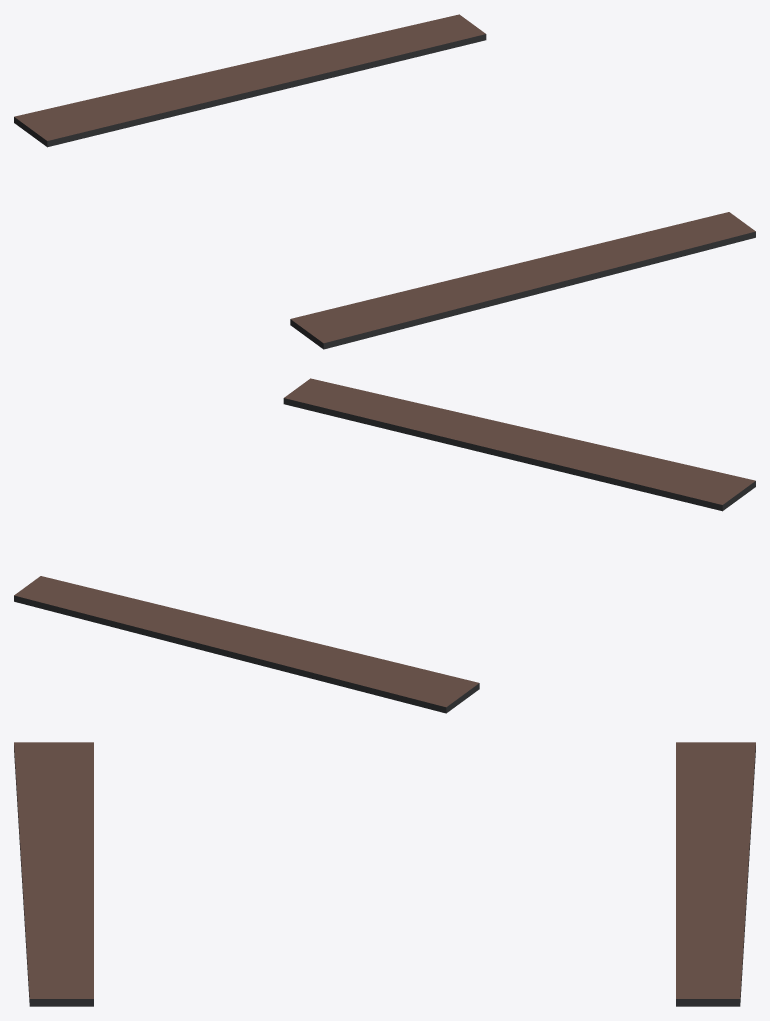
File: side-locker-short-420s.glb
3 renders of one model, top to bottom at view 1: azimuth 30°, elevation 25°; view 2: azimuth 150°, elevation 25°; view 3: azimuth 270°, elevation 25°, orthographic. The views are drawn at different scales.
Visible parts, largest first — view 1: xs_lid_side_short_420s_port_1_board, xs_lid_side_short_420s_stbd_1_board; view 2: xs_lid_side_short_420s_stbd_1_board, xs_lid_side_short_420s_port_1_board; view 3: xs_lid_side_short_420s_stbd_1_board, xs_lid_side_short_420s_port_1_board.
Part boxes in pixels (x1,y1,x2,y2): xs_lid_side_short_420s_port_1_board: (14, 14, 486, 147); xs_lid_side_short_420s_stbd_1_board: (290, 212, 755, 349); xs_lid_side_short_420s_stbd_1_board: (283, 378, 755, 511); xs_lid_side_short_420s_port_1_board: (14, 576, 479, 713); xs_lid_side_short_420s_stbd_1_board: (14, 742, 93, 1006); xs_lid_side_short_420s_port_1_board: (676, 742, 755, 1006).
Bounding box in the file's own units: 1.33 × 0.018 × 1.63.
